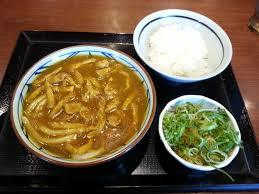curry: (9, 40, 159, 180)
